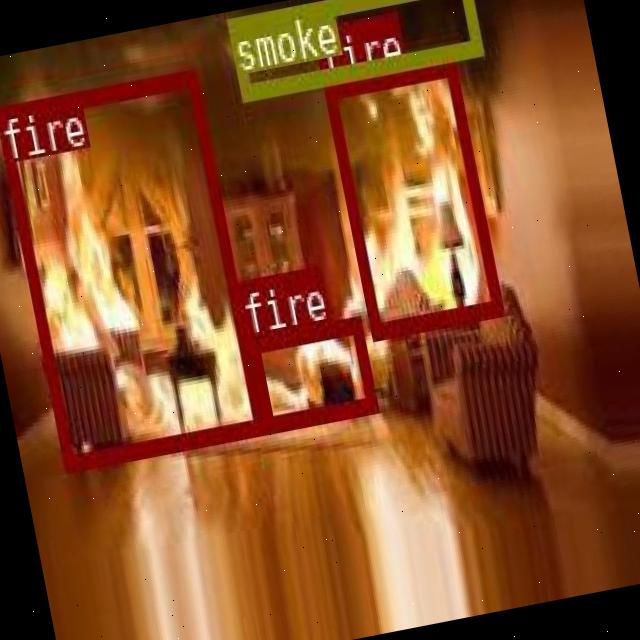fire: (0, 67, 263, 469), (323, 58, 503, 338), (246, 314, 376, 430)
smoke: (224, 0, 481, 99)
